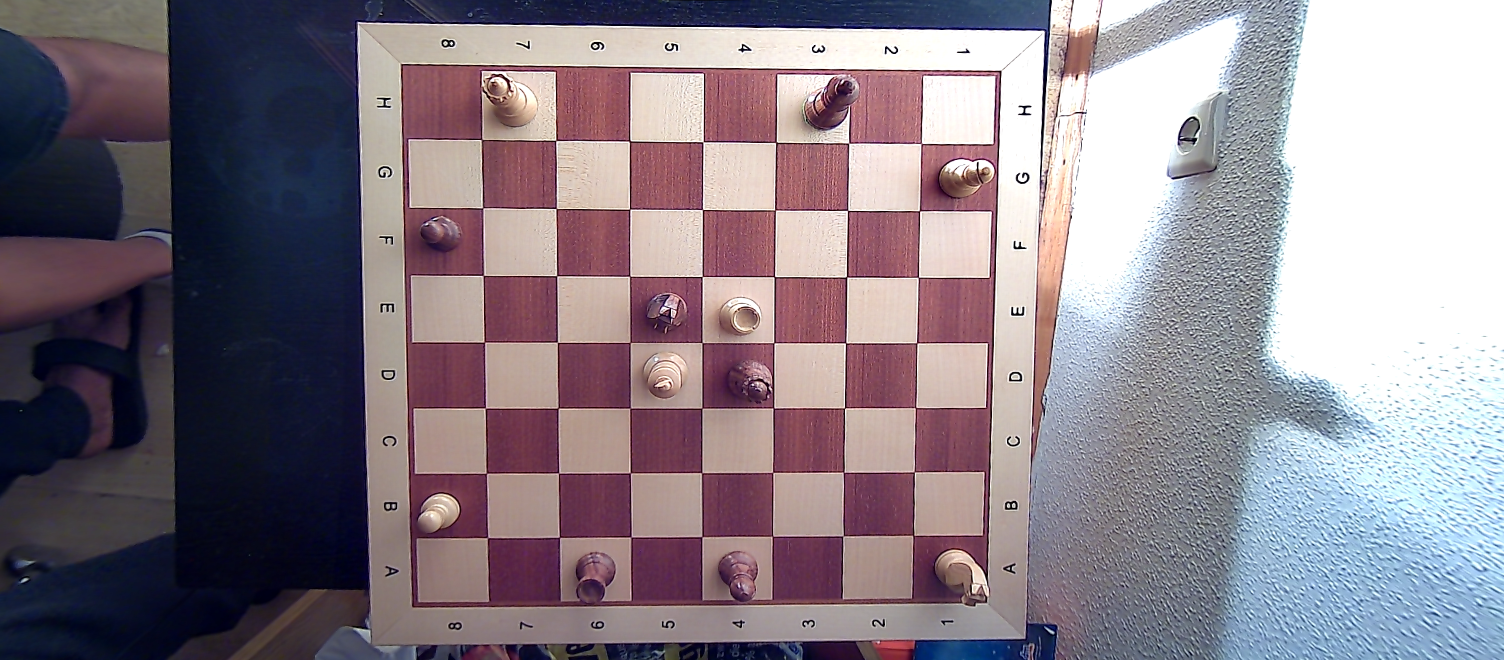black-bishop: (712, 547, 764, 605)
black-king: (799, 72, 863, 133)
black-knight: (640, 285, 695, 338)
black-pawn: (415, 208, 461, 257)
black-queen: (722, 354, 772, 407)
black-rook: (569, 546, 619, 608)
white-bishop: (933, 154, 995, 198)
white-king: (640, 347, 691, 404)
white-knight: (930, 546, 993, 606)
white-pawn: (415, 491, 463, 535)
white-queen: (479, 72, 539, 130)
white-rook: (712, 292, 766, 341)
